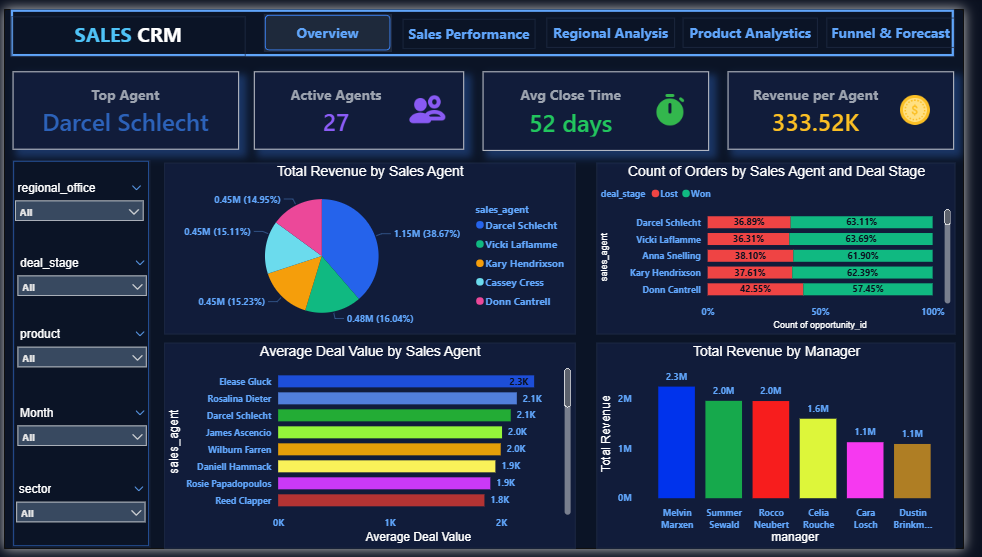

Layout of this report page (visuals, bound fields, positions):
{"tool":"powerbi","page":{"name":"Sales Performance","canvas":[1280,720],"ordinal":1},"visuals":[{"type":"cardVisual","fields":{"Data":["public sales_pipeline.Top Agent"]},"box":[11.4,82.9,301.4,104.3],"z":0},{"type":"actionButton","box":[9,0,1259.4,64.2],"z":1000},{"type":"shape","box":[11.4,201.4,182.9,515.7],"z":2000},{"type":"slicer","fields":{"Values":["public sales_teams.regional_office"]},"box":[10,224.3,185.7,81.4],"z":3000},{"type":"slicer","fields":{"Values":["public sales_pipeline.deal_stage"]},"box":[12.9,324.6,187.1,81.4],"z":4000},{"type":"slicer","fields":{"Values":["public products.product"]},"box":[12.9,420.3,187.1,80],"z":5000},{"type":"pieChart","title":"Total Revenue by Sales Agent","fields":{"Category":["public sales_pipeline.sales_agent"],"Y":["public sales_pipeline.Total Revenue"]},"box":[212.9,204.3,548.6,228.6],"z":6000},{"type":"hundredPercentStackedBarChart","title":"Count of Orders by Sales Agent and Deal Stage","fields":{"Category":["public sales_pipeline.sales_agent"],"Series":["public sales_pipeline.deal_stage"],"Y":["CountNonNull(public sales_pipeline.opportunity_id)"]},"box":[790,204.3,478.6,228.6],"z":7000},{"type":"clusteredColumnChart","title":"Total Revenue by Manager","fields":{"Category":["public sales_teams.manager"],"Y":["public sales_pipeline.Total Revenue"]},"box":[790,445.7,478.6,274.3],"z":8000},{"type":"textbox","box":[10,10,311.7,53.3],"z":9000},{"type":"clusteredBarChart","title":"Average Deal Value by Sales Agent","fields":{"Category":["public sales_teams.sales_agent"],"Y":["public sales_pipeline.Average Deal Value"]},"box":[212.9,445.7,548.6,274.3],"z":10000},{"type":"slicer","fields":{"Values":["public sales_pipeline.engage_date.Variation.Date Hierarchy.Month"]},"box":[12.9,524.6,187.1,81.4],"z":11000},{"type":"slicer","fields":{"Values":["public accounts.sector"]},"box":[11.4,626,187.1,80],"z":12000},{"type":"actionButton","title":"Product Analysis","box":[347.1,7.1,170,50],"z":13000},{"type":"actionButton","title":"Product Analysis","box":[722.9,11.4,171.4,40],"z":14000},{"type":"actionButton","title":"Product Analysis","box":[904.3,11.4,180,40],"z":15000},{"type":"actionButton","title":"Product Analysis","box":[531.4,12.9,177.1,40],"z":16000},{"type":"actionButton","title":"Product Analysis","box":[1097.1,11.4,171.4,40],"z":17000},{"type":"cardVisual","fields":{"Data":["public sales_pipeline.Avg Close Time1"]},"box":[638.6,82.9,301.4,105.7],"z":18000},{"type":"cardVisual","fields":{"Data":["public sales_pipeline.Active Agents"]},"box":[332.9,82.9,280,104.3],"z":19000},{"type":"cardVisual","fields":{"Data":["public sales_pipeline.Revenue per Agent"]},"box":[965.7,82.9,301.4,104.3],"z":20000}]}

Visuals, with their boxes in screenshot pixels (x1, y1, x2, y2), scaled from the page's 1280x720 canvas onto the 982x557 screenshot:
cardVisual - public sales_pipeline.Top Agent: pyautogui.locateOnScreen(9, 64, 240, 145)
actionButton: pyautogui.locateOnScreen(7, 0, 973, 50)
shape: pyautogui.locateOnScreen(9, 156, 149, 555)
slicer - public sales_teams.regional_office: pyautogui.locateOnScreen(8, 174, 150, 236)
slicer - public sales_pipeline.deal_stage: pyautogui.locateOnScreen(10, 251, 153, 314)
slicer - public products.product: pyautogui.locateOnScreen(10, 325, 153, 387)
"Total Revenue by Sales Agent" pieChart: pyautogui.locateOnScreen(163, 158, 584, 335)
"Count of Orders by Sales Agent and Deal Stage" hundredPercentStackedBarChart: pyautogui.locateOnScreen(606, 158, 973, 335)
"Total Revenue by Manager" clusteredColumnChart: pyautogui.locateOnScreen(606, 345, 973, 556)
textbox: pyautogui.locateOnScreen(8, 8, 247, 49)
"Average Deal Value by Sales Agent" clusteredBarChart: pyautogui.locateOnScreen(163, 345, 584, 556)
slicer - public sales_pipeline.engage_date.Variation.Date Hierarchy.Month: pyautogui.locateOnScreen(10, 406, 153, 469)
slicer - public accounts.sector: pyautogui.locateOnScreen(9, 484, 152, 546)
"Product Analysis" actionButton: pyautogui.locateOnScreen(266, 5, 397, 44)
"Product Analysis" actionButton: pyautogui.locateOnScreen(555, 9, 686, 40)
"Product Analysis" actionButton: pyautogui.locateOnScreen(694, 9, 832, 40)
"Product Analysis" actionButton: pyautogui.locateOnScreen(408, 10, 544, 41)
"Product Analysis" actionButton: pyautogui.locateOnScreen(842, 9, 973, 40)
cardVisual - public sales_pipeline.Avg Close Time1: pyautogui.locateOnScreen(490, 64, 721, 146)
cardVisual - public sales_pipeline.Active Agents: pyautogui.locateOnScreen(255, 64, 470, 145)
cardVisual - public sales_pipeline.Revenue per Agent: pyautogui.locateOnScreen(741, 64, 972, 145)
